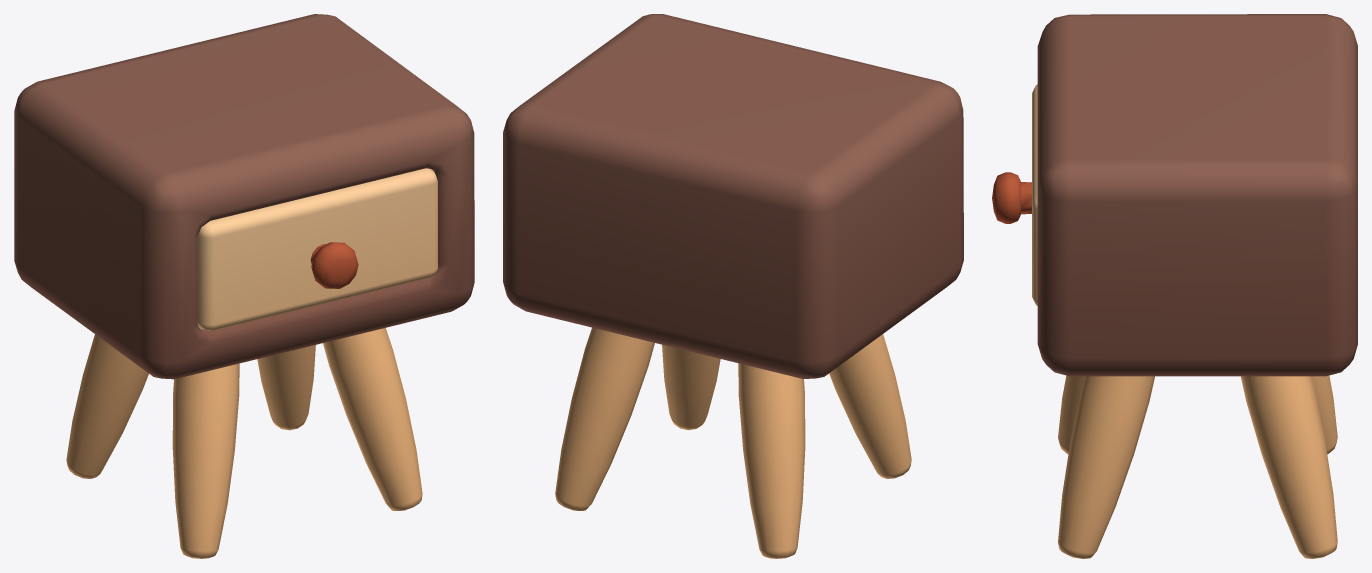
The model's file is Nightstand_02.fbx.
3 renders of one model, left to right at view 1: azimuth 30°, elevation 25°; view 2: azimuth 150°, elevation 25°; view 3: azimuth 270°, elevation 25°, orthographic. The views are drawn at different scales.
Visible parts, largest first — view 1: Nightstand_02, Nightstand_02_Door; view 2: Nightstand_02; view 3: Nightstand_02, Nightstand_02_Door.
Boxes of the visible parts, bbox=[...] form: Nightstand_02: bbox=[14, 14, 474, 558]; Nightstand_02_Door: bbox=[197, 168, 437, 330]; Nightstand_02: bbox=[503, 14, 963, 558]; Nightstand_02: bbox=[1037, 14, 1357, 558]; Nightstand_02_Door: bbox=[992, 84, 1037, 305].
Bounding box in the file's own units: 0.5 × 0.575 × 0.4572.
